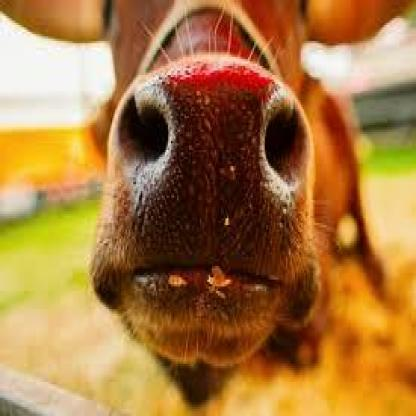cow: (92, 0, 384, 407)
